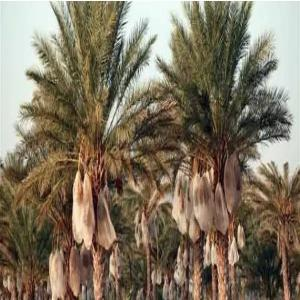palm tree: (9, 0, 166, 298), (154, 0, 294, 299), (248, 158, 300, 298)
